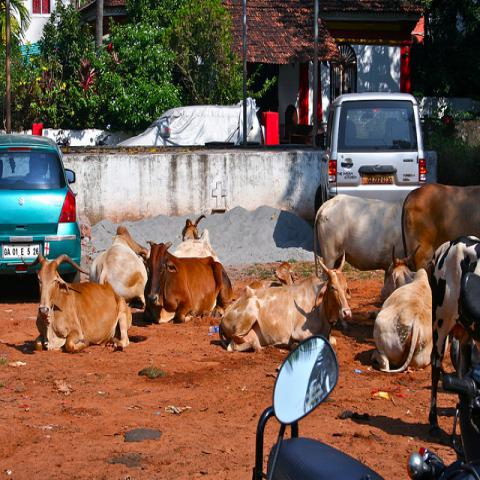car: (314, 93, 426, 217), (0, 133, 82, 285)
motorcycle: (250, 332, 376, 474)
